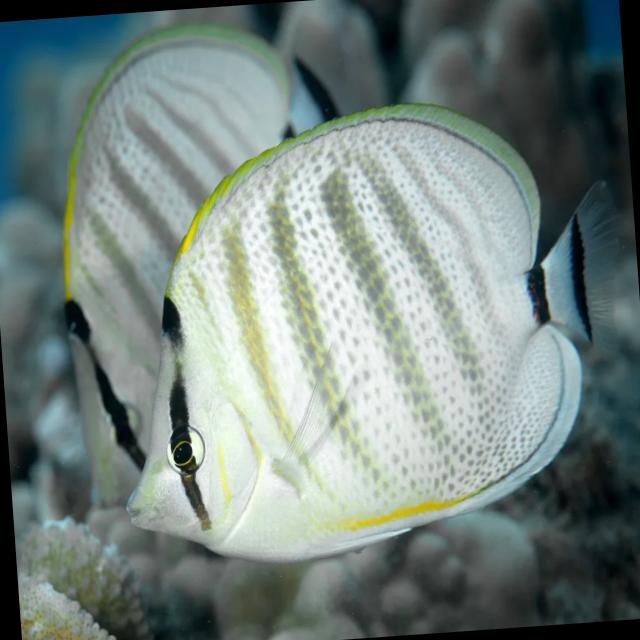ButterflyFish: (103, 81, 640, 570), (44, 9, 354, 522)
